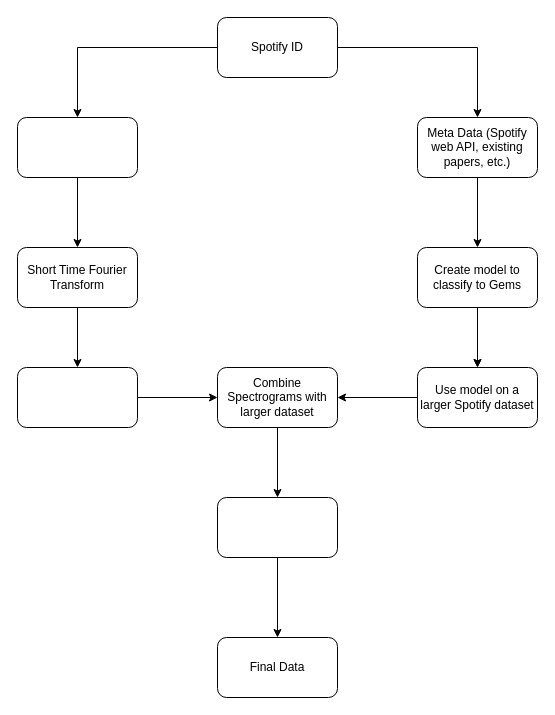
Image size: 555x715. Some labels were removed from this diagram. The shapes that lost their labels are listed below. From the top down, each one's centre as x and y in pixels, then its label:
the point at 77,147: Audio File (WAV, MP3, etc.)
the point at 77,397: Spectrogram
the point at 277,527: Combine this with existing spectrogram to gems datasets
